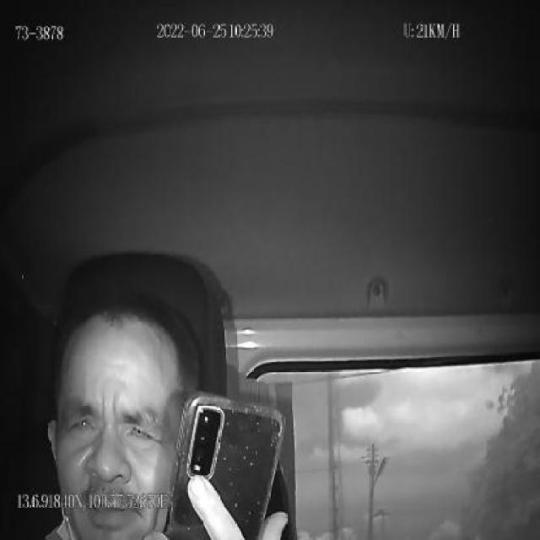phone: (164, 391, 282, 540)
